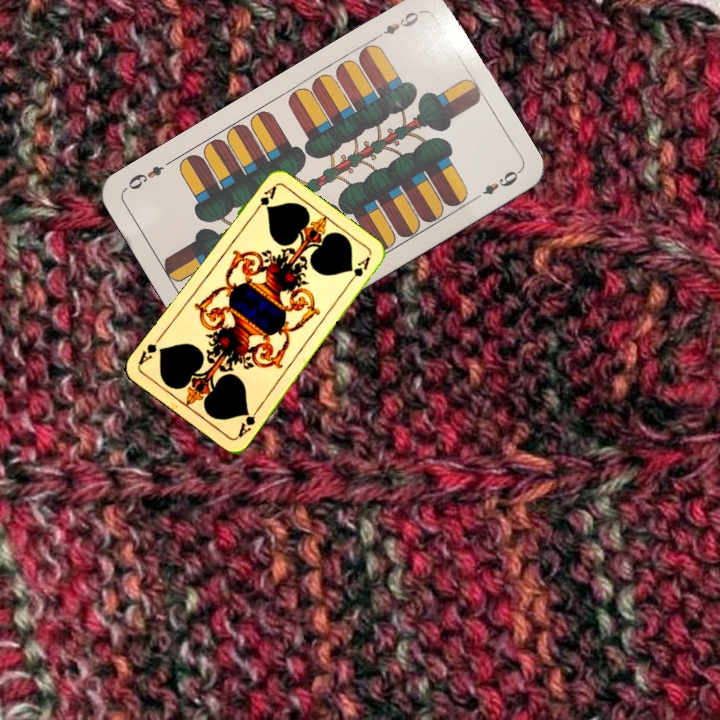E9: (371, 7, 422, 43)
GA: (233, 404, 262, 440), (250, 182, 279, 217)
